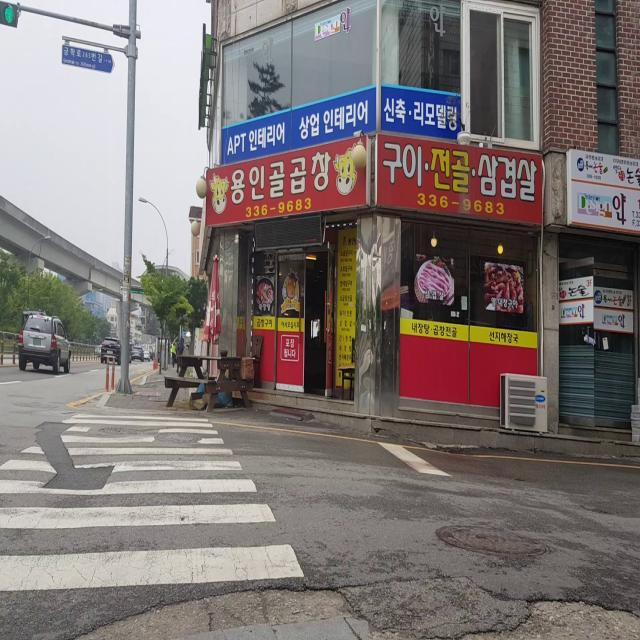횡단보도: (0, 409, 306, 595)
